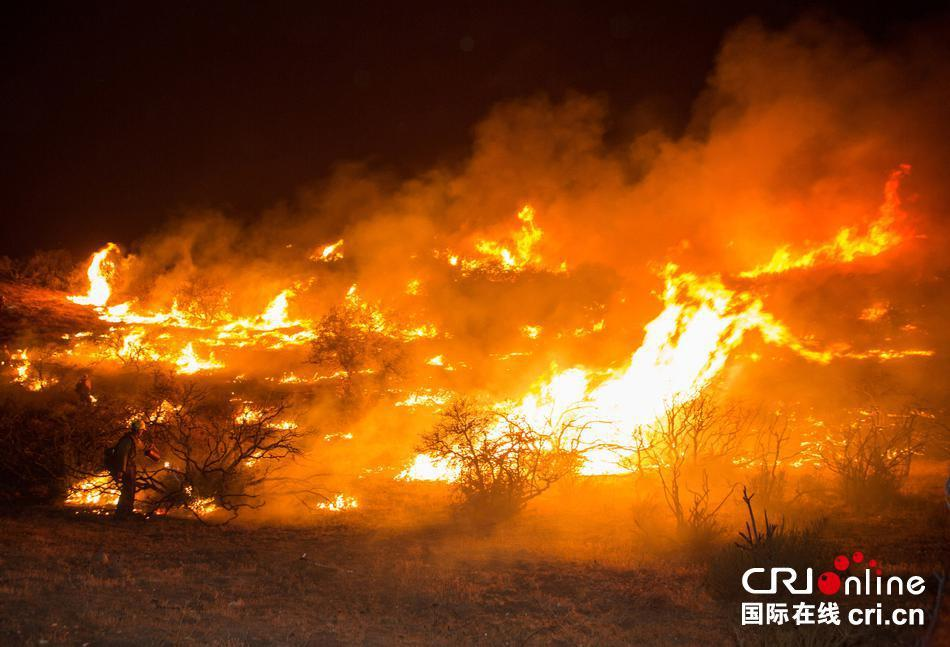fire: (0, 206, 927, 516)
